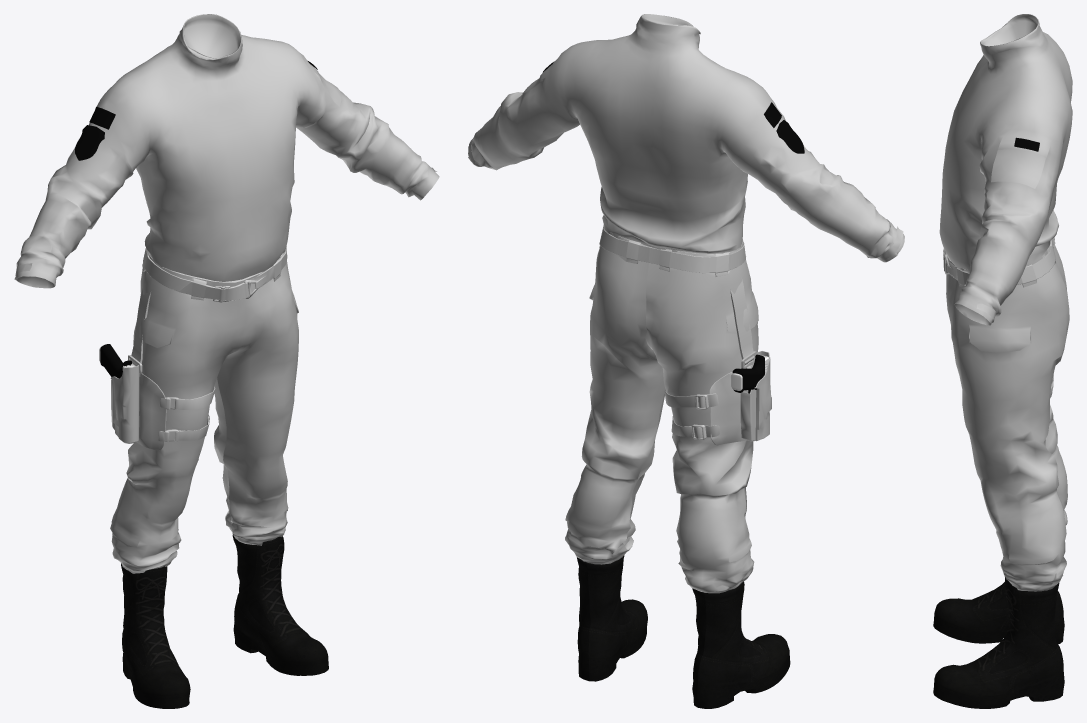
Rendered from 迷彩服.fbx.
The picture shows the model from 3 angles, left to right: view 1: azimuth 30°, elevation 25°; view 2: azimuth 150°, elevation 25°; view 3: azimuth 270°, elevation 25°; orthographic projection. The views are drawn at different scales.
Visible parts, largest first — view 1: zb_WJ_yf; view 2: zb_WJ_yf; view 3: zb_WJ_yf.
Boxes of the visible parts, box(x1,y1,x2,y2) form: zb_WJ_yf: box(14, 14, 439, 708); zb_WJ_yf: box(468, 14, 904, 708); zb_WJ_yf: box(933, 14, 1072, 708).
Bounding box in the file's own units: 112 × 164 × 32.15.
